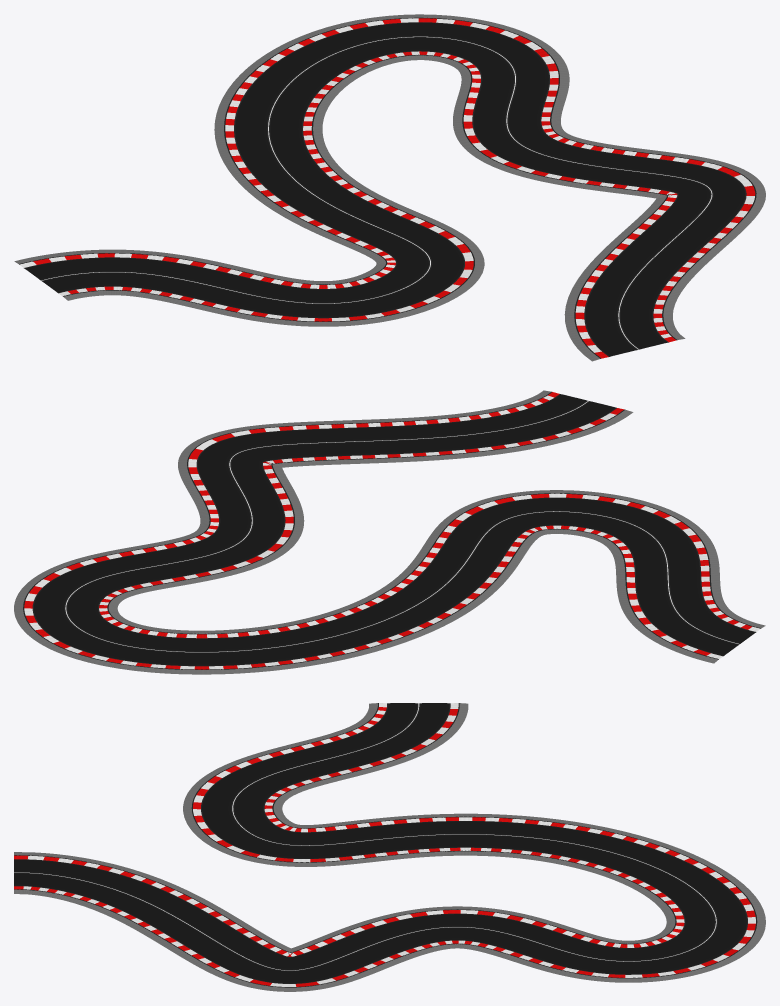
The model's file is S0.Group.202.export.A1R1H0cornRsplat.glb.
The picture shows the model from 3 angles, top to bottom: view 1: azimuth 30°, elevation 25°; view 2: azimuth 150°, elevation 25°; view 3: azimuth 270°, elevation 25°; orthographic projection. The views are drawn at different scales.
Visible parts, largest first — view 1: Grid; view 2: Grid; view 3: Grid.
Boxes of the visible parts, left/top/right/bottom form: Grid: left=14, top=14, right=765, bottom=361; Grid: left=14, top=390, right=765, bottom=674; Grid: left=14, top=703, right=765, bottom=991.
Size of the model in its own units: 172 by 0.2487 by 189.
